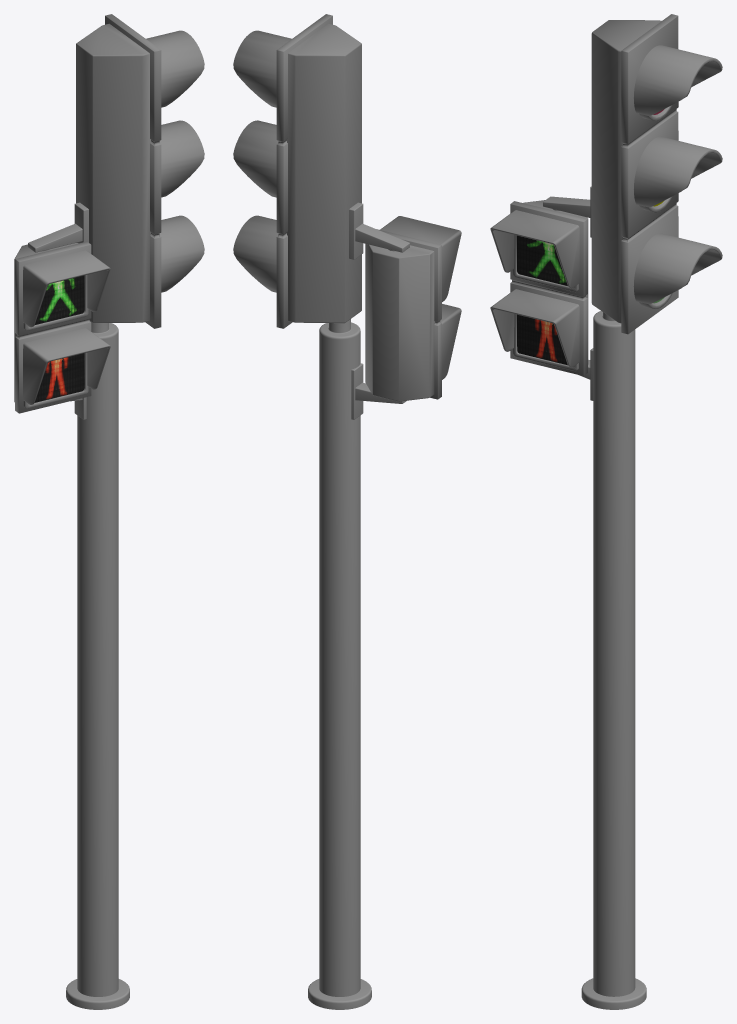
File: trafficlight.gltf
3 views of the same model, side by side, from view 1: azimuth 30°, elevation 25°; view 2: azimuth 150°, elevation 25°; view 3: azimuth 330°, elevation 25° (orthographic).
Parts seen in each view (by area): view 1: 红绿灯09; view 2: 红绿灯09; view 3: 红绿灯09.
Boxes of the visible parts, box(x1,y1,x2,y2) form: 红绿灯09: box(14, 14, 204, 1009); 红绿灯09: box(233, 14, 461, 1009); 红绿灯09: box(490, 14, 722, 1009).
Size of the model in its own units: 1.46 by 7.36 by 0.843.
Materials: 7 (2 with a texture image).
